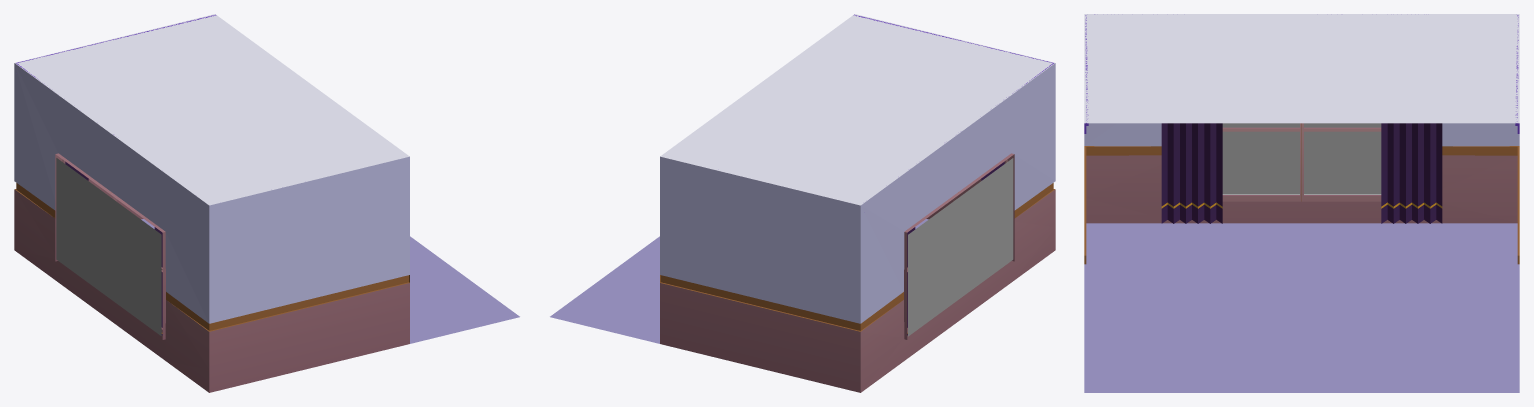
Rendered from room.fbx.
3 views of the same model, side by side, from view 1: azimuth 30°, elevation 25°; view 2: azimuth 150°, elevation 25°; view 3: azimuth 270°, elevation 25° (orthographic). The views are drawn at different scales.
Parts seen in each view (by area): view 1: room2; view 2: room2; view 3: room2.
Boxes of the visible parts, left/top/right/bottom form: room2: left=14, top=14, right=519, bottom=392; room2: left=550, top=14, right=1055, bottom=392; room2: left=1084, top=14, right=1519, bottom=392.
Bounding box in the file's own units: 2236 × 1275 × 2402.
